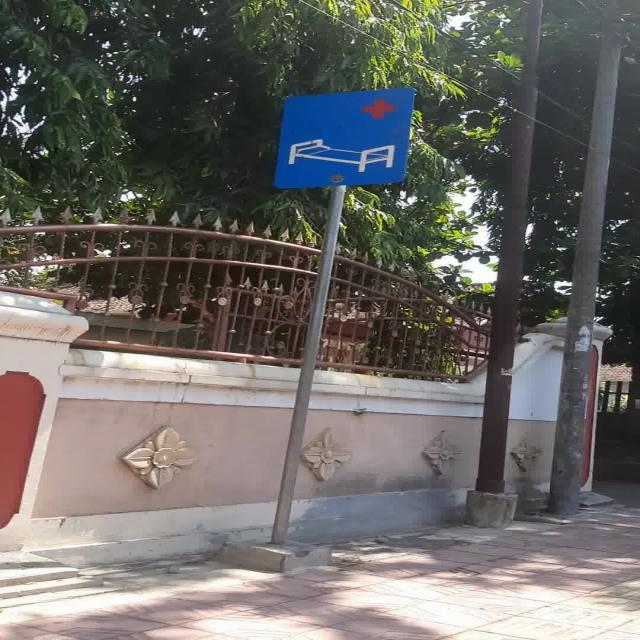Rumah Sakit: (273, 88, 415, 188)
